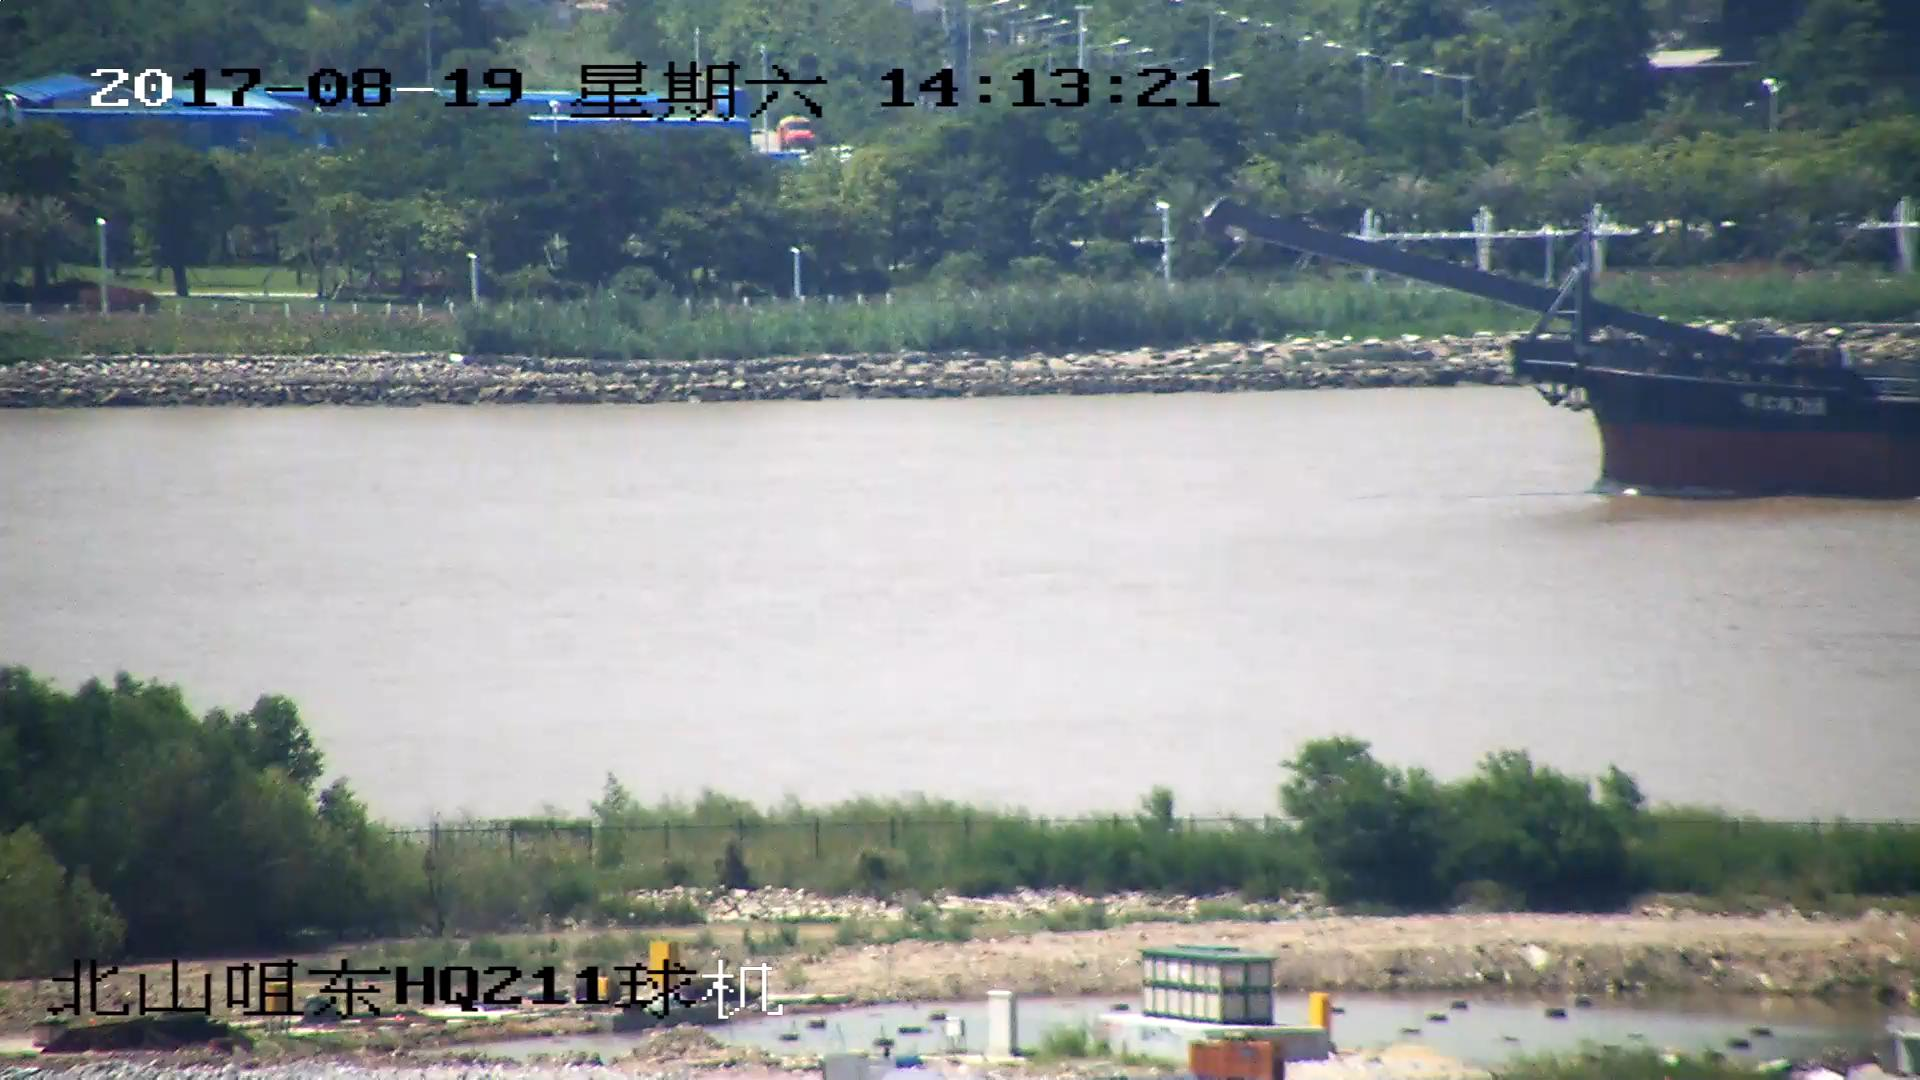bulk cargo carrier: (1223, 204, 1920, 498)
